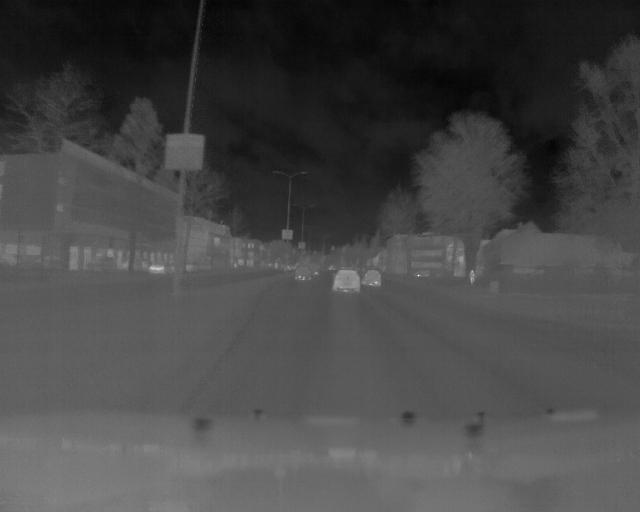car: (331, 266, 361, 294), (359, 267, 383, 288)
